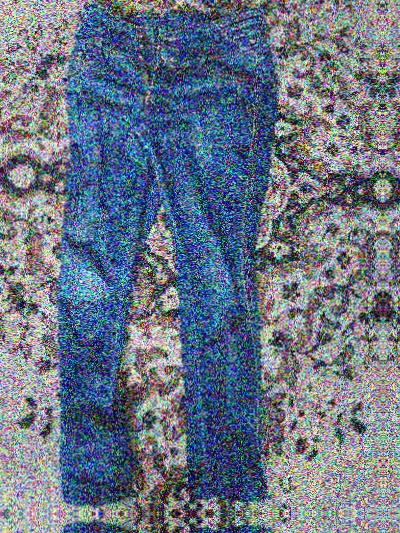Pants: (18, 0, 302, 489)
